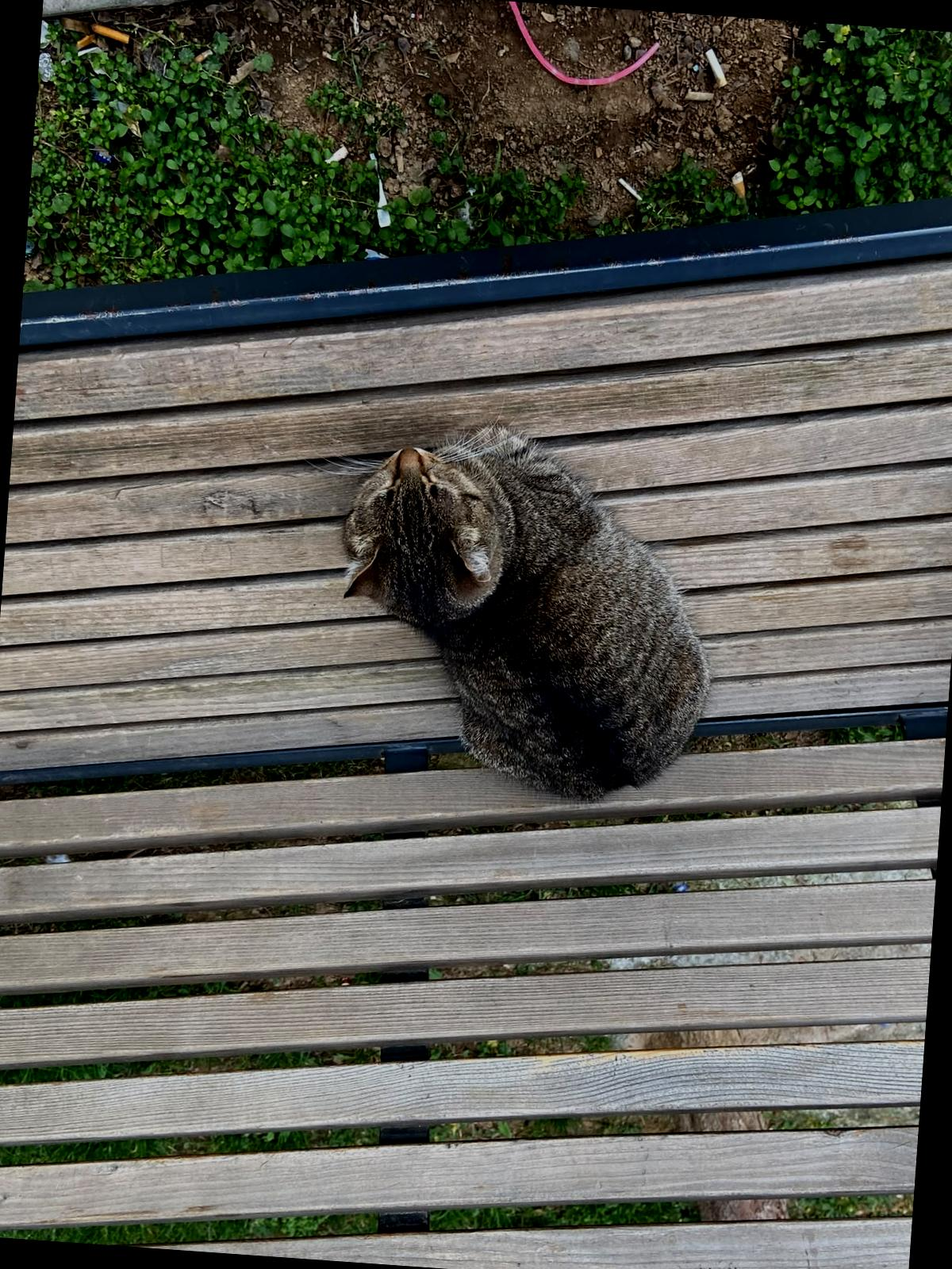macka: (323, 415, 727, 811)
